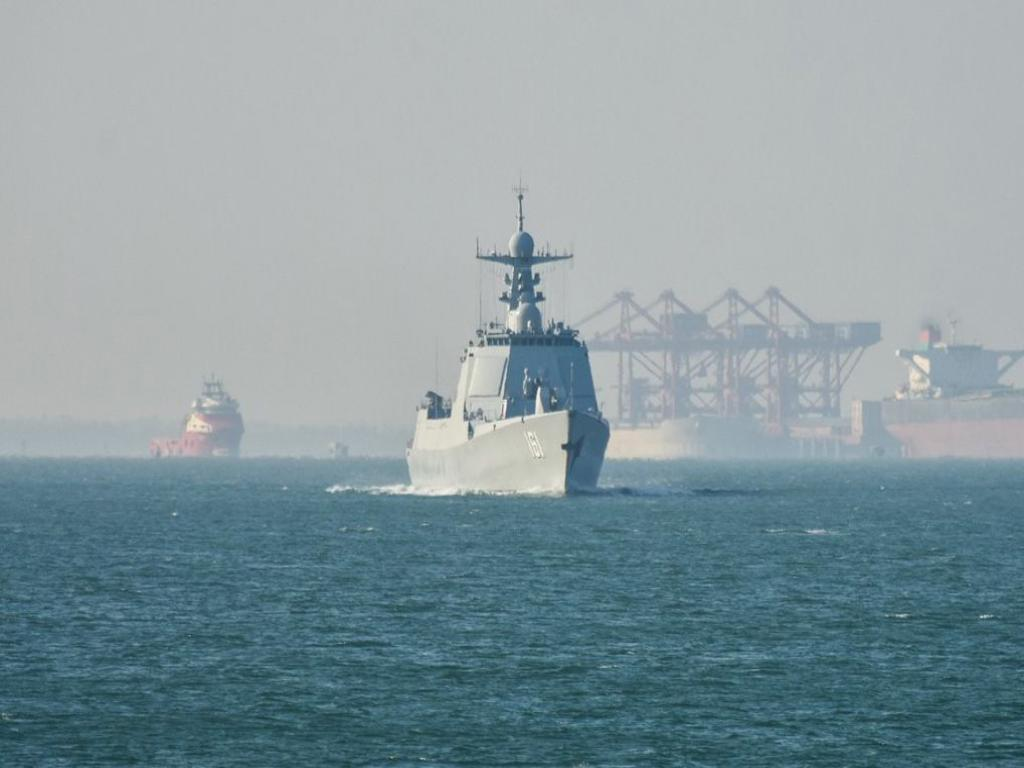Warship: (399, 174, 613, 508)
